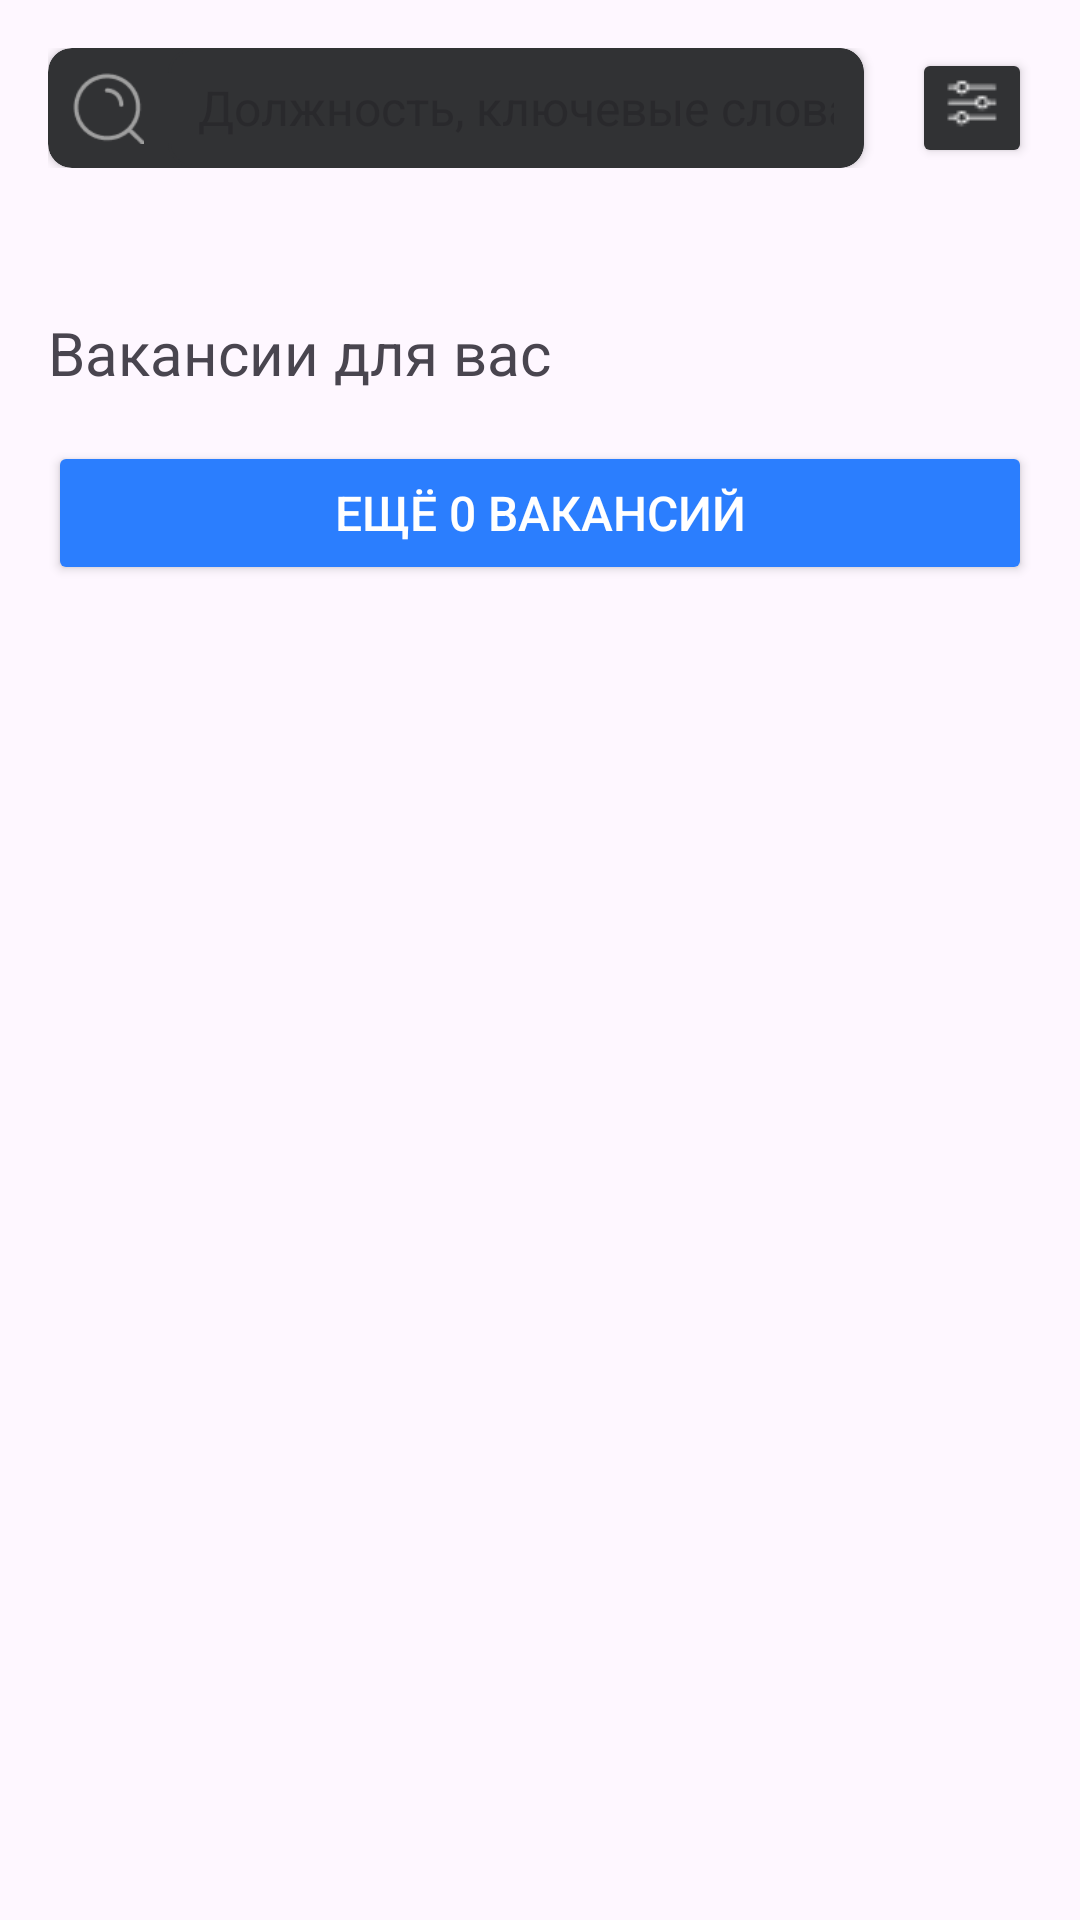

Locate icon controls on the screen. Image size 1080w x 1920h, boxes as (x1, y1, x2, y2).
search: (48, 48, 168, 168)
